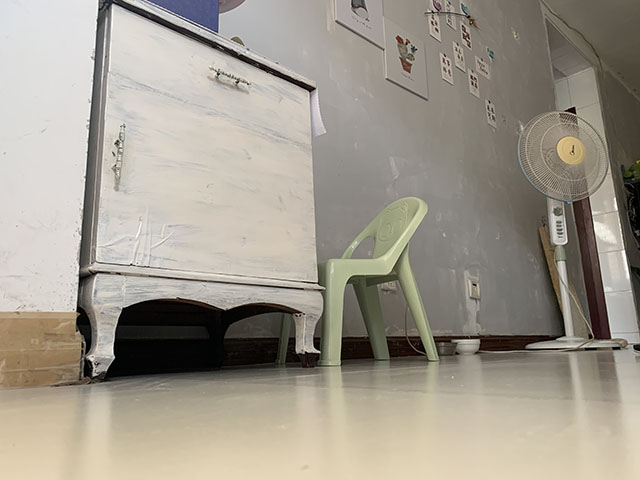cabinet: (77, 1, 326, 386)
stool: (271, 194, 441, 369)
wire: (403, 252, 595, 357)
